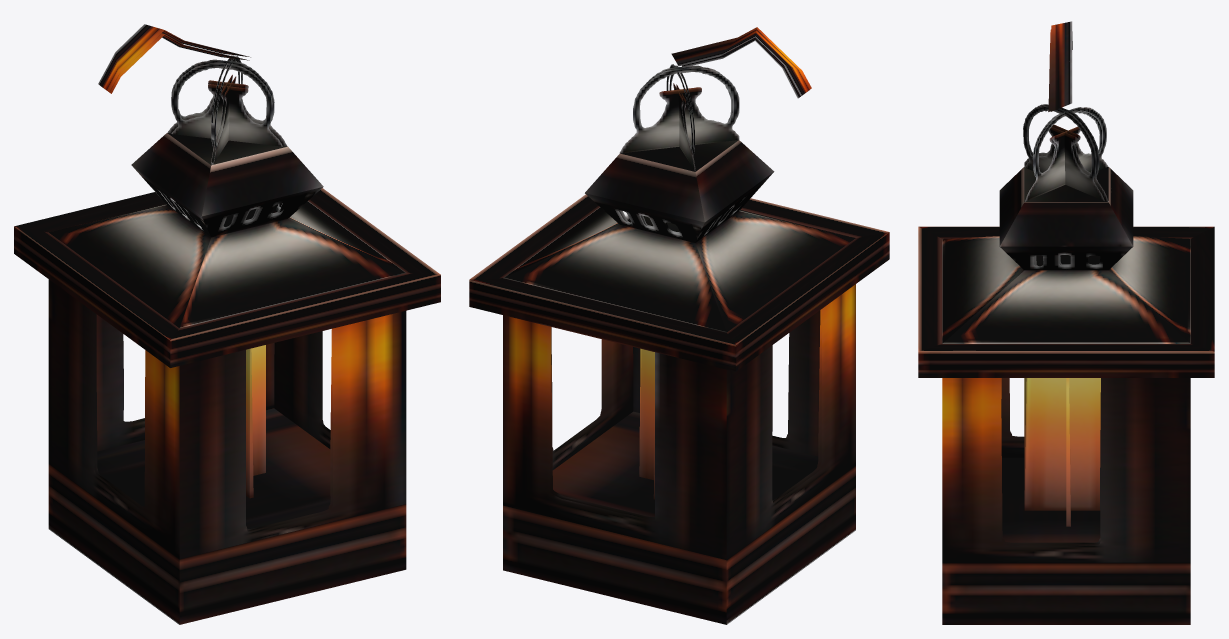
File: Lantern.fbx
3 views of the same model, side by side, from view 1: azimuth 30°, elevation 25°; view 2: azimuth 150°, elevation 25°; view 3: azimuth 270°, elevation 25° (orthographic). The views are drawn at different scales.
Parts seen in each view (by area): view 1: Cube.017; view 2: Cube.017; view 3: Cube.017.
Part boxes in pixels (x1,y1,x2,y2): Cube.017: (14, 24, 440, 624); Cube.017: (469, 27, 889, 624); Cube.017: (918, 21, 1214, 624).
Size of the model in its own units: 67.48 by 129 by 67.48.
